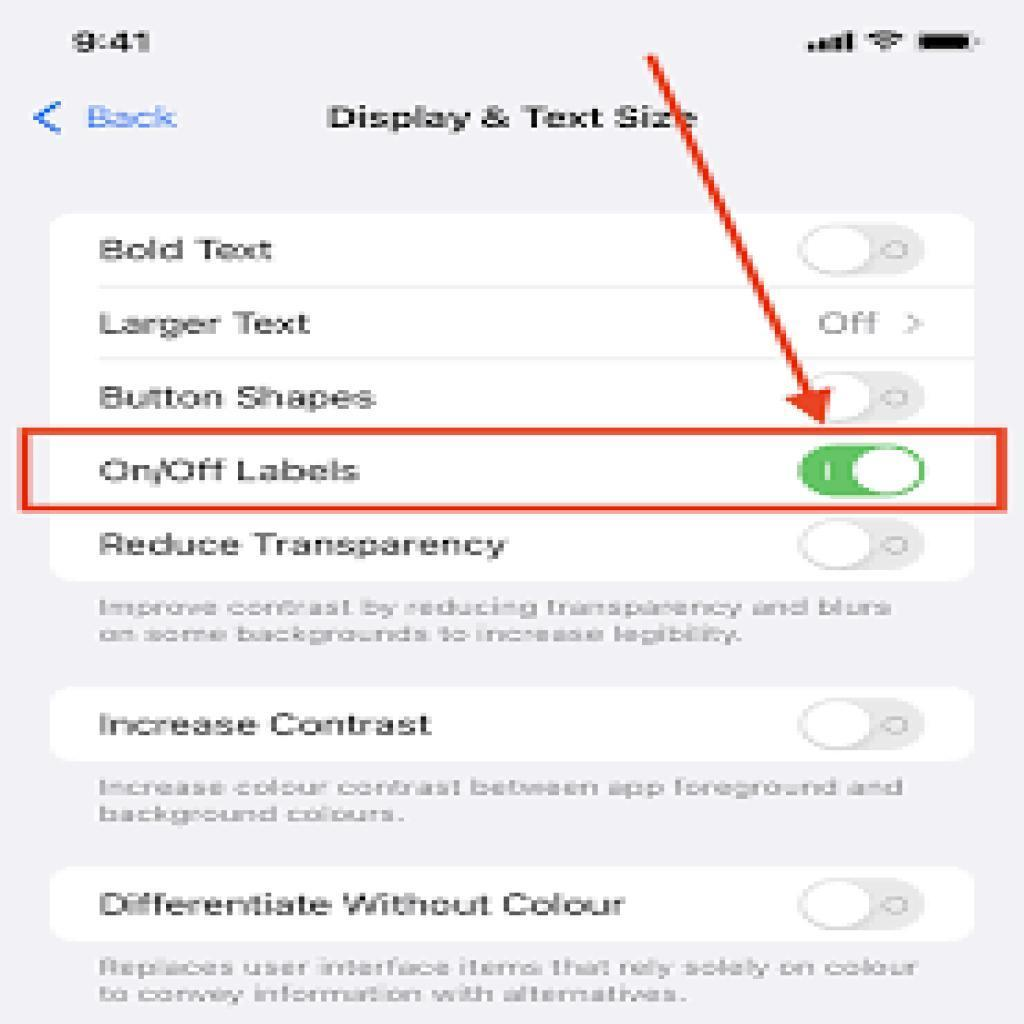switch: (796, 695, 928, 761), (796, 440, 925, 502), (796, 517, 931, 574), (803, 877, 930, 931), (799, 228, 928, 278)
